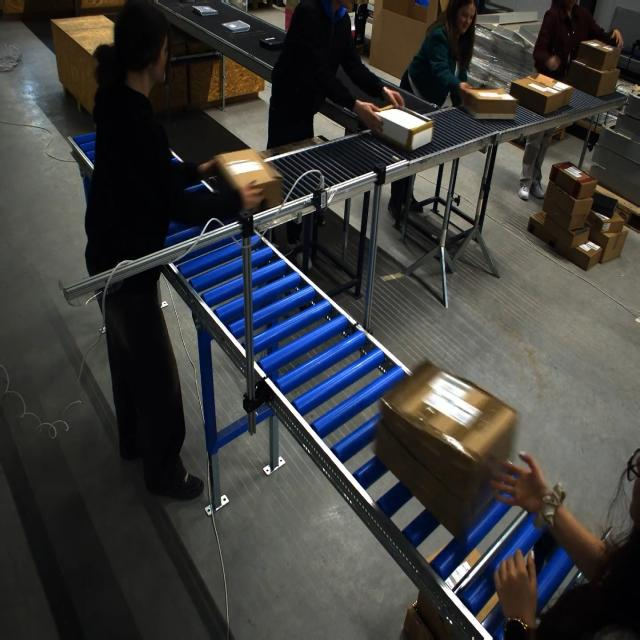box: (378, 378, 516, 530), (212, 148, 281, 212), (371, 105, 430, 153), (461, 87, 517, 120)
product: (221, 20, 250, 33), (259, 36, 282, 49), (192, 5, 218, 16)
